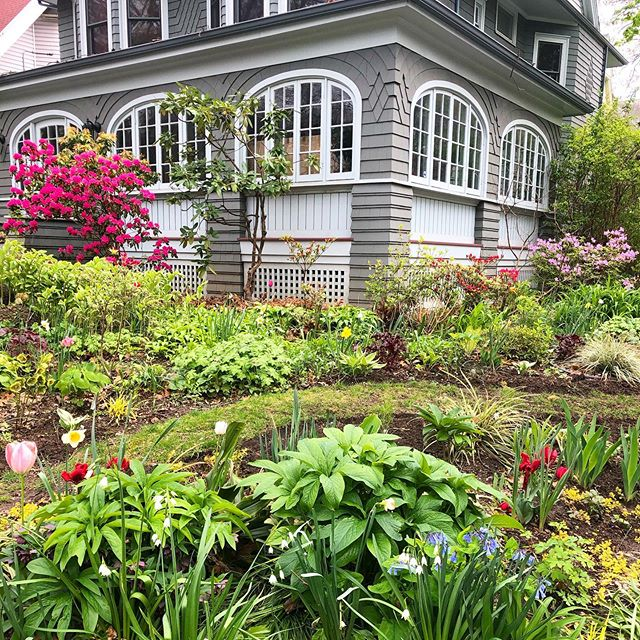building: (1, 1, 556, 314)
vegetation: (35, 272, 640, 640)
